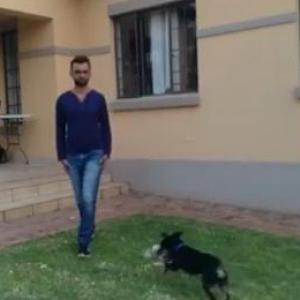follow: (58, 57, 119, 245)
